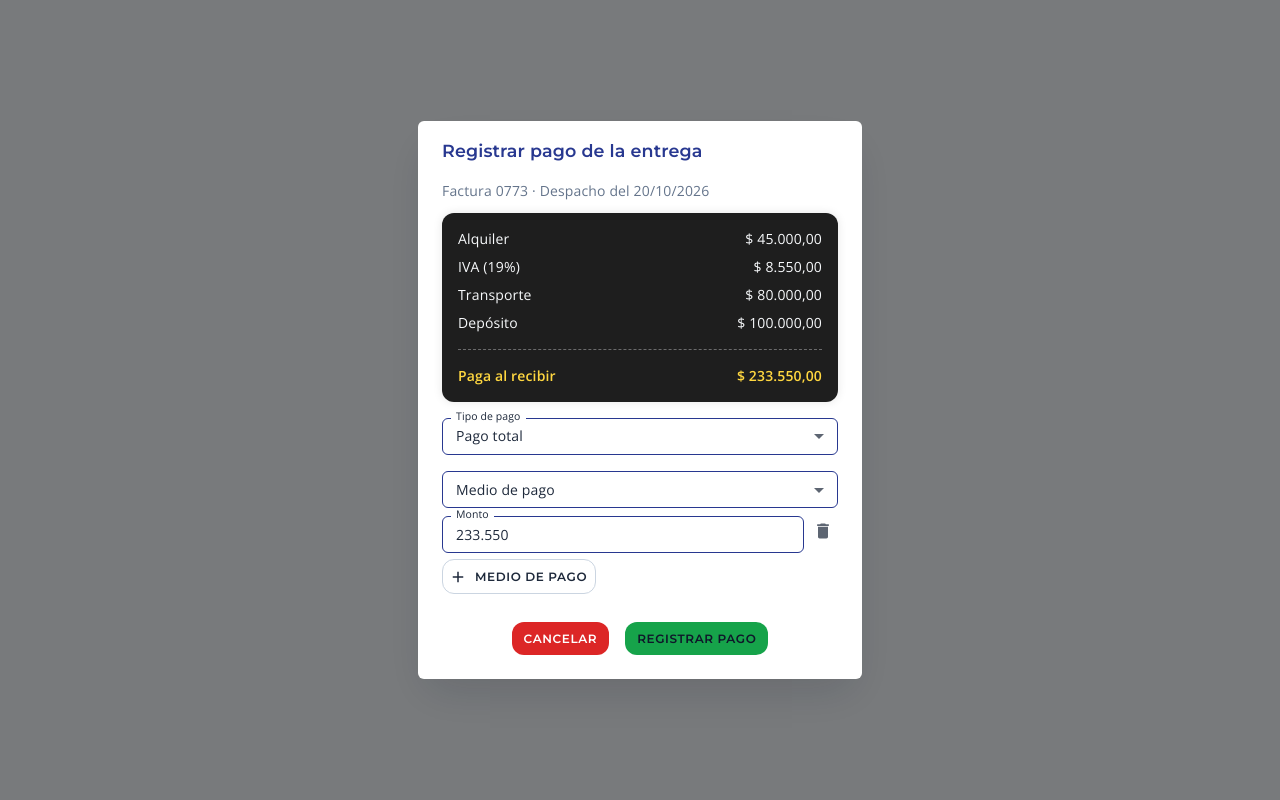
it: RegistrarPagoEntregaDialog › sin medio de pago no guarda nada
The image size is (1280, 800).
Click the button "Registrar pago" at (697, 639), box [625,622,768,655]
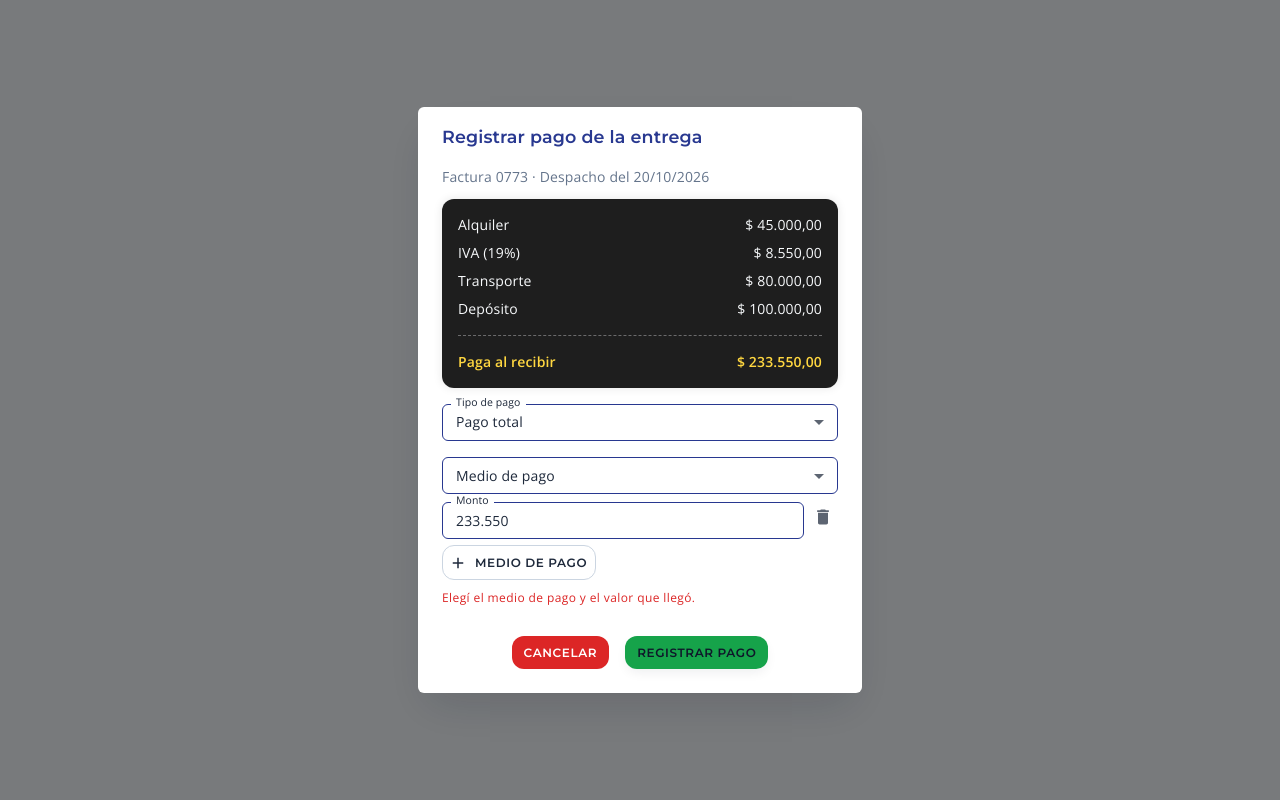
Result: the text "Elegí el medio de pago y el valor que llegó." is shown at [442,589,695,606]
